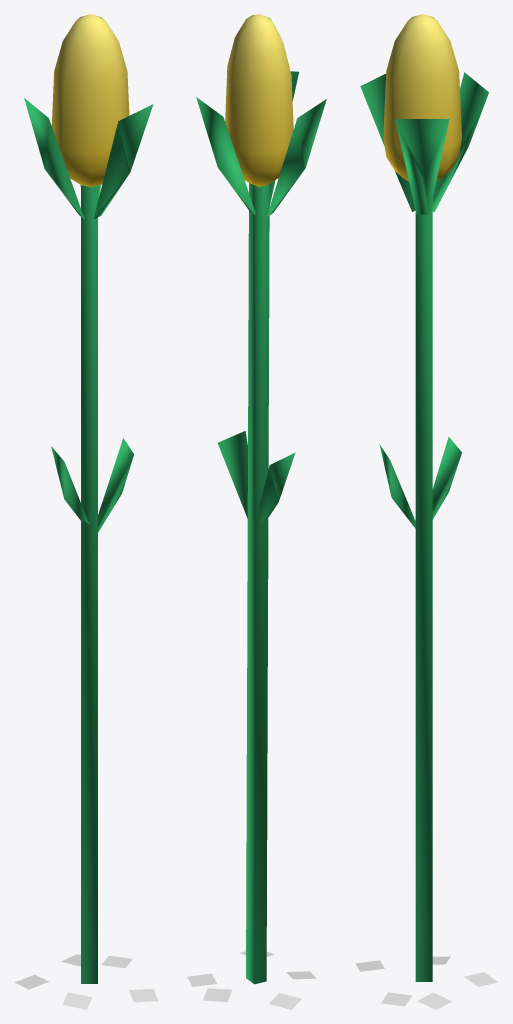
File: corn.glb
3 renders of one model, left to right at view 1: azimuth 90°, elevation 25°; view 2: azimuth 210°, elevation 25°; view 3: azimuth 270°, elevation 25°, orthographic.
Visible parts, largest first — view 1: corn, corn_copy; view 2: corn; view 3: corn.
Boxes of the visible parts, left/top/right/bottom form: corn: left=24, top=14, right=153, bottom=983; corn_copy: left=62, top=992, right=92, bottom=1009; corn: left=196, top=14, right=326, bottom=984; corn: left=360, top=14, right=488, bottom=981.
Bounding box in the file's own units: 0.1344 × 1.07 × 0.1434.
1 material, 1 textured.
